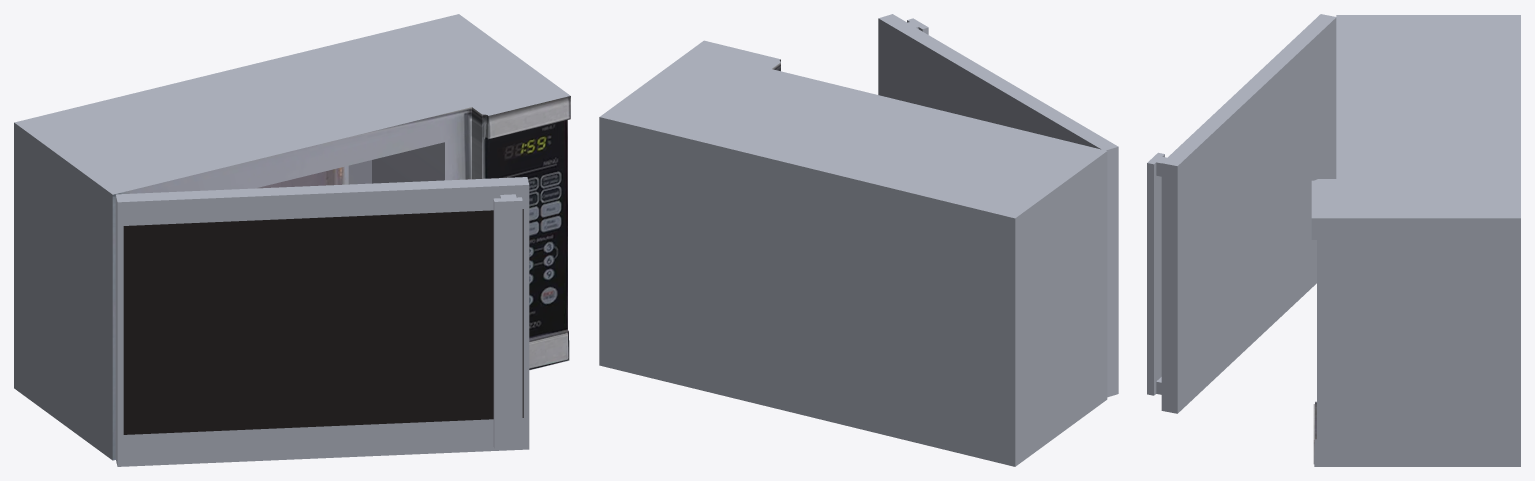
The model's file is Microondas model.fbx.
The picture shows the model from 3 angles, left to right: view 1: azimuth 30°, elevation 25°; view 2: azimuth 150°, elevation 25°; view 3: azimuth 270°, elevation 25°; orthographic projection. The views are drawn at different scales.
Visible parts, largest first — view 1: Frontal; view 2: Frontal; view 3: Frontal.
Part boxes in pixels (box(x1,y1,x2,y2)): Frontal: box(14, 14, 570, 466); Frontal: box(599, 14, 1118, 466); Frontal: box(1147, 14, 1520, 466).
Bounding box in the file's own units: 176 × 100 × 136.
6 materials, 1 textured.
